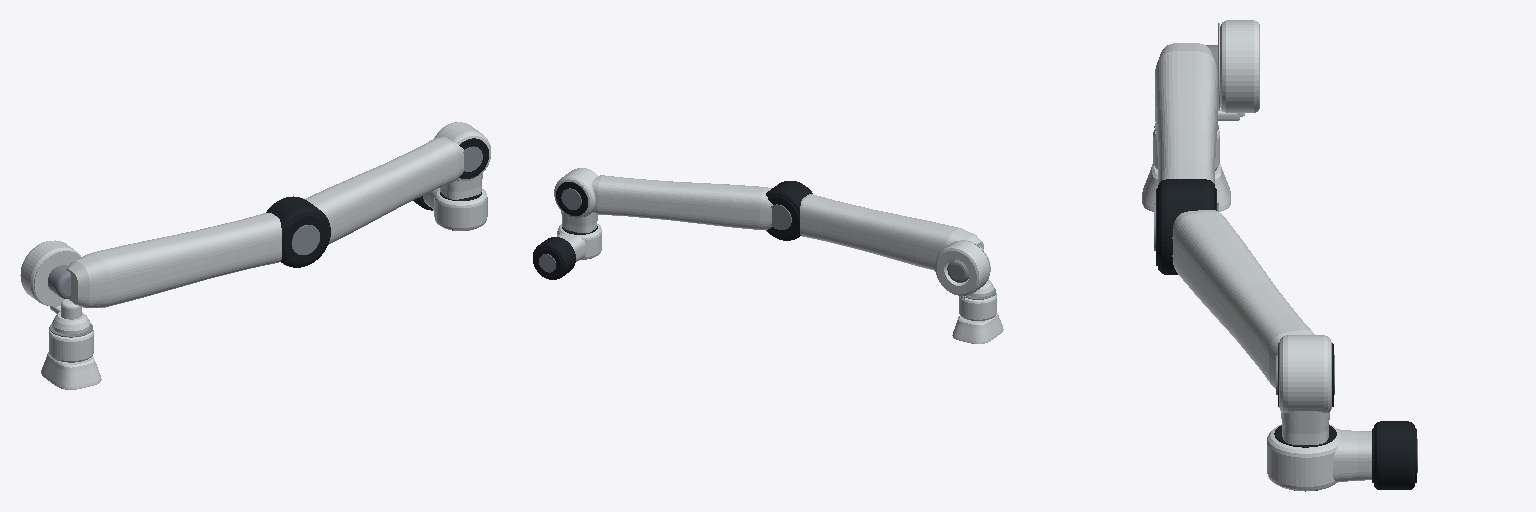
URDF robot description (ur5e_reference):
<?xml version='1.0' encoding='utf-8'?>
<robot name="ur5e_reference">
  <!-- Parameter-derived UR5e reference. Geometry and drive settings generated for this skill; see references/reference-arms.md and UPSTREAM-LICENSE.txt. -->
  <link name="world" />
  <link name="base_link_inertia">
    <inertial>
      <origin xyz="0 0 0" rpy="0 -0 0" />
      <mass value="4.0" />
      <inertia ixx="0.00443333156" iyy="0.00443333156" izz="0.0072" ixy="0.0" ixz="0.0" iyz="0.0" />
    </inertial>
    <visual name="base_link_inertia_base_visual">
      <geometry>
        <mesh filename="meshes/base_link_inertia_base_visual.stl" />
      </geometry>
      <material name="base_link_inertia_base">
        <color rgba="0.16 0.18 0.2 1" />
      </material>
    </visual>
    <collision name="base_link_inertia_base_collision">
      <origin xyz="0 0 -0.041" rpy="0 -0 0" />
      <geometry>
        <cylinder radius="0.09112500000000001" length="0.082" />
      </geometry>
    </collision>
    <visual name="base_link_inertia_mounting_rim_visual">
      <geometry>
        <mesh filename="meshes/base_link_inertia_mounting_rim_visual.stl" />
      </geometry>
      <material name="base_link_inertia_mounting_rim">
        <color rgba="0.55 0.58 0.61 1" />
      </material>
    </visual>
    <visual name="base_link_inertia_beam_visual">
      <geometry>
        <mesh filename="meshes/base_link_inertia_beam_visual.stl" />
      </geometry>
      <material name="base_link_inertia_beam">
        <color rgba="0.82 0.84 0.85 1" />
      </material>
    </visual>
    <collision name="base_link_inertia_beam_collision">
      <origin xyz="0 0 0.019" rpy="0 -0 -1.57079632679" />
      <geometry>
        <box size="0.1 0.082 0.0152" />
      </geometry>
    </collision>
    <visual name="base_link_inertia_shoulder_pan_joint_stator_visual">
      <geometry>
        <mesh filename="meshes/base_link_inertia_shoulder_pan_joint_stator_visual.stl" />
      </geometry>
      <material name="base_link_inertia_shoulder_pan_joint_stator">
        <color rgba="0.82 0.84 0.85 1" />
      </material>
    </visual>
    <collision name="base_link_inertia_shoulder_pan_joint_stator_collision">
      <origin xyz="0 0 0.0625" rpy="0 -0 -1.57079632679" />
      <geometry>
        <cylinder radius="0.0375" length="0.045" />
      </geometry>
    </collision>
  </link>
  <link name="shoulder_link">
    <inertial>
      <origin xyz="0 -0.00193 -0.02561" rpy="0 -0 0" />
      <mass value="3.761" />
      <inertia ixx="0.0070021" iyy="0.00657286" izz="0.00648091" ixy="1.053e-05" ixz="7.300000000000047e-07" iyz="-0.00049994" />
    </inertial>
    <visual name="shoulder_link_shoulder_lift_joint_stator_visual">
      <geometry>
        <mesh filename="meshes/shoulder_link_shoulder_lift_joint_stator_visual.stl" />
      </geometry>
      <material name="shoulder_link_shoulder_lift_joint_stator">
        <color rgba="0.82 0.84 0.85 1" />
      </material>
    </visual>
    <collision name="shoulder_link_shoulder_lift_joint_stator_collision">
      <origin xyz="0 -0.0602171470261 -1.23507469977e-11" rpy="0 1.57079632679 -1.57079632679" />
      <geometry>
        <cylinder radius="0.052" length="0.045" />
      </geometry>
    </collision>
    <visual name="shoulder_link_shoulder_pan_joint_output_shaft_visual">
      <geometry>
        <mesh filename="meshes/shoulder_link_shoulder_pan_joint_output_shaft_visual.stl" />
      </geometry>
      <material name="shoulder_link_shoulder_pan_joint_output_shaft">
        <color rgba="0.82 0.84 0.85 1" />
      </material>
    </visual>
    <collision name="shoulder_link_shoulder_pan_joint_output_shaft_collision">
      <origin xyz="-0 -0 -0.0744700000085" rpy="-0 -0 -1.57079632679" />
      <geometry>
        <cylinder radius="0.017625" length="0.09605999998303442" />
      </geometry>
    </collision>
    <visual name="shoulder_link_shoulder_pan_joint_output_fairing_visual">
      <geometry>
        <mesh filename="meshes/shoulder_link_shoulder_pan_joint_output_fairing_visual.stl" />
      </geometry>
      <material name="shoulder_link_shoulder_pan_joint_output_fairing">
        <color rgba="0.82 0.84 0.85 1" />
      </material>
    </visual>
    <collision name="shoulder_link_shoulder_pan_joint_output_fairing_collision">
      <origin xyz="-0 -0 -0.0624500000039" rpy="-0 -0 -1.57079632679" />
      <geometry>
        <cylinder radius="0.0315" length="0.0220999999922641" />
      </geometry>
    </collision>
    <visual name="shoulder_link_shoulder_pan_joint_rotor_ring_visual">
      <geometry>
        <mesh filename="meshes/shoulder_link_shoulder_pan_joint_rotor_ring_visual.stl" />
      </geometry>
      <material name="shoulder_link_shoulder_pan_joint_rotor_ring">
        <color rgba="0.55 0.58 0.61 1" />
      </material>
    </visual>
    <collision name="shoulder_link_shoulder_pan_joint_rotor_ring_collision">
      <origin xyz="0 0 -0.0745" rpy="-0 -0 -1.57079632679" />
      <geometry>
        <cylinder radius="0.036" length="0.002" />
      </geometry>
    </collision>
    <visual name="shoulder_link_shoulder_lift_joint_support_visual">
      <geometry>
        <mesh filename="meshes/shoulder_link_shoulder_lift_joint_support_visual.stl" />
      </geometry>
      <material name="shoulder_link_shoulder_lift_joint_support">
        <color rgba="0.82 0.84 0.85 1" />
      </material>
    </visual>
    <collision name="shoulder_link_shoulder_lift_joint_support_collision">
      <origin xyz="0 -0.0301085735008 -0.0594893015829" rpy="1.570796327 -0 0" />
      <geometry>
        <box size="0.01144 0.01144 0.0602171470261" />
      </geometry>
    </collision>
    <visual name="shoulder_link_shoulder_lift_joint_stator_lug_visual">
      <geometry>
        <mesh filename="meshes/shoulder_link_shoulder_lift_joint_stator_lug_visual.stl" />
      </geometry>
      <material name="shoulder_link_shoulder_lift_joint_stator_lug">
        <color rgba="0.82 0.84 0.85 1" />
      </material>
    </visual>
    <collision name="shoulder_link_shoulder_lift_joint_stator_lug_collision">
      <origin xyz="0 -0.060217147016 -0.0492446508007" rpy="-3.14159265338 -0 0" />
      <geometry>
        <box size="0.01144 0.01144 0.0204893015768" />
      </geometry>
    </collision>
  </link>
  <link name="upper_arm_link">
    <inertial>
      <origin xyz="-0.2125 0 0.11336" rpy="0 -0 0" />
      <mass value="8.058" />
      <inertia ixx="0.01505885" iyy="0.33388086" izz="0.33247207" ixy="-5.4e-05" ixz="5.63e-06" iyz="-1.81e-06" />
    </inertial>
    <visual name="upper_arm_link_beam_visual">
      <geometry>
        <mesh filename="meshes/upper_arm_link_beam_visual.stl" />
      </geometry>
      <material name="upper_arm_link_beam">
        <color rgba="0.82 0.84 0.85 1" />
      </material>
    </visual>
    <collision name="upper_arm_link_beam_collision">
      <origin xyz="-0.2125 0 0" rpy="1.57079632679 -0 -1.57079632679" />
      <geometry>
        <box size="0.0871149927466 0.0714342940522 0.3106" />
      </geometry>
    </collision>
    <visual name="upper_arm_link_shoulder_lift_joint_output_shaft_visual">
      <geometry>
        <mesh filename="meshes/upper_arm_link_shoulder_lift_joint_output_shaft_visual.stl" />
      </geometry>
      <material name="upper_arm_link_shoulder_lift_joint_output_shaft">
        <color rgba="0.55 0.58 0.61 1" />
      </material>
    </visual>
    <collision name="upper_arm_link_shoulder_lift_joint_output_shaft_collision">
      <origin xyz="0 0 0.0413585735131" rpy="-0 -0 -1.57079632679" />
      <geometry>
        <cylinder radius="0.024439999999999996" length="0.08271714702610156" />
      </geometry>
    </collision>
    <visual name="upper_arm_link_shoulder_lift_joint_output_plate_visual">
      <geometry>
        <mesh filename="meshes/upper_arm_link_shoulder_lift_joint_output_plate_visual.stl" />
      </geometry>
      <material name="upper_arm_link_shoulder_lift_joint_output_plate">
        <color rgba="0.82 0.84 0.85 1" />
      </material>
    </visual>
    <collision name="upper_arm_link_shoulder_lift_joint_output_plate_collision">
      <origin xyz="0 0 0.0367171470261" rpy="-0 -0 -1.57079632679" />
      <geometry>
        <cylinder radius="0.04939999999999999" length="0.002" />
      </geometry>
    </collision>
  </link>
  <link name="forearm_link">
    <inertial>
      <origin xyz="-0.2422 0 0.0265" rpy="0 -0 0" />
      <mass value="2.846" />
      <inertia ixx="0.00399632" iyy="0.07879254" izz="0.0784851" ixy="-1.365e-05" ixz="0.00137272" iyz="-6.6e-06" />
    </inertial>
    <visual name="forearm_link_housing_visual">
      <geometry>
        <mesh filename="meshes/forearm_link_housing_visual.stl" />
      </geometry>
      <material name="forearm_link_housing">
        <color rgba="0.16 0.18 0.2 1" />
      </material>
    </visual>
    <collision name="forearm_link_housing_collision">
      <origin xyz="0 0 0" rpy="-0 -0 -1.57079632679" />
      <geometry>
        <cylinder radius="0.0537492699387647" length="0.06529540940709193" />
      </geometry>
    </collision>
    <visual name="forearm_link_cap_visual">
      <geometry>
        <mesh filename="meshes/forearm_link_cap_visual.stl" />
      </geometry>
      <material name="forearm_link_cap">
        <color rgba="0.16 0.18 0.2 1" />
      </material>
    </visual>
    <visual name="forearm_link_cap_hub_visual">
      <geometry>
        <mesh filename="meshes/forearm_link_cap_hub_visual.stl" />
      </geometry>
      <material name="forearm_link_cap_hub">
        <color rgba="0.55 0.58 0.61 1" />
      </material>
    </visual>
    <visual name="forearm_link_rear_cap_visual">
      <geometry>
        <mesh filename="meshes/forearm_link_rear_cap_visual.stl" />
      </geometry>
      <material name="forearm_link_rear_cap">
        <color rgba="0.16 0.18 0.2 1" />
      </material>
    </visual>
    <visual name="forearm_link_rear_cap_hub_visual">
      <geometry>
        <mesh filename="meshes/forearm_link_rear_cap_hub_visual.stl" />
      </geometry>
      <material name="forearm_link_rear_cap_hub">
        <color rgba="0.55 0.58 0.61 1" />
      </material>
    </visual>
    <visual name="forearm_link_beam_visual">
      <geometry>
        <mesh filename="meshes/forearm_link_beam_visual.stl" />
      </geometry>
      <material name="forearm_link_beam">
        <color rgba="0.82 0.84 0.85 1" />
      </material>
    </visual>
    <collision name="forearm_link_beam_collision">
      <origin xyz="-0.1961 0 0.06665" rpy="1.24316752878 -0 -1.57079632679" />
      <geometry>
        <box size="0.0796285480574 0.0652954094071 0.295985513487" />
      </geometry>
    </collision>
  </link>
  <link name="wrist_1_link">
    <inertial>
      <origin xyz="0 -0.01634 -0.0018" rpy="0 -0 0" />
      <mass value="1.37" />
      <inertia ixx="0.00165491" iyy="0.00126279" izz="0.00135962" ixy="4.380000000000001e-06" ixz="-2.819999999999998e-06" iyz="-0.00010157000000000006" />
    </inertial>
    <visual name="wrist_1_link_housing_visual">
      <geometry>
        <mesh filename="meshes/wrist_1_link_housing_visual.stl" />
      </geometry>
      <material name="wrist_1_link_housing">
        <color rgba="0.82 0.84 0.85 1" />
      </material>
    </visual>
    <collision name="wrist_1_link_housing_collision">
      <origin xyz="0 0 0" rpy="-0 -0 -1.57079632679" />
      <geometry>
        <cylinder radius="0.044865" length="0.05915652476198071" />
      </geometry>
    </collision>
    <visual name="wrist_1_link_cap_visual">
      <geometry>
        <mesh filename="meshes/wrist_1_link_cap_visual.stl" />
      </geometry>
      <material name="wrist_1_link_cap">
        <color rgba="0.16 0.18 0.2 1" />
      </material>
    </visual>
    <visual name="wrist_1_link_cap_hub_visual">
      <geometry>
        <mesh filename="meshes/wrist_1_link_cap_hub_visual.stl" />
      </geometry>
      <material name="wrist_1_link_cap_hub">
        <color rgba="0.55 0.58 0.61 1" />
      </material>
    </visual>
    <visual name="wrist_1_link_rear_cap_visual">
      <geometry>
        <mesh filename="meshes/wrist_1_link_rear_cap_visual.stl" />
      </geometry>
      <material name="wrist_1_link_rear_cap">
        <color rgba="0.16 0.18 0.2 1" />
      </material>
    </visual>
    <visual name="wrist_1_link_rear_cap_hub_visual">
      <geometry>
        <mesh filename="meshes/wrist_1_link_rear_cap_hub_visual.stl" />
      </geometry>
      <material name="wrist_1_link_rear_cap_hub">
        <color rgba="0.55 0.58 0.61 1" />
      </material>
    </visual>
    <visual name="wrist_1_link_beam_visual">
      <geometry>
        <mesh filename="meshes/wrist_1_link_beam_visual.stl" />
      </geometry>
      <material name="wrist_1_link_beam">
        <color rgba="0.82 0.84 0.85 1" />
      </material>
    </visual>
    <collision name="wrist_1_link_beam_collision">
      <origin xyz="0 -0.04985 -1.02244059115e-11" rpy="1.570796327 -0 0" />
      <geometry>
        <box size="0.0721421033683 0.059156524762 0.03988" />
      </geometry>
    </collision>
  </link>
  <link name="wrist_2_link">
    <inertial>
      <origin xyz="0 0.01634 -0.0018" rpy="0 -0 0" />
      <mass value="1.3" />
      <inertia ixx="0.00135617" iyy="0.00096614" izz="0.00127827" ixy="4.440000000000001e-06" ixz="2.739999999999998e-06" iyz="5.048000000000014e-05" />
    </inertial>
    <visual name="wrist_2_link_housing_visual">
      <geometry>
        <mesh filename="meshes/wrist_2_link_housing_visual.stl" />
      </geometry>
      <material name="wrist_2_link_housing">
        <color rgba="0.82 0.84 0.85 1" />
      </material>
    </visual>
    <collision name="wrist_2_link_housing_collision">
      <origin xyz="0 0 0" rpy="-0 -0 -1.57079632679" />
      <geometry>
        <cylinder radius="0.043642569608398685" length="0.05301764011686951" />
      </geometry>
    </collision>
    <visual name="wrist_2_link_cap_visual">
      <geometry>
        <mesh filename="meshes/wrist_2_link_cap_visual.stl" />
      </geometry>
      <material name="wrist_2_link_cap">
        <color rgba="0.16 0.18 0.2 1" />
      </material>
    </visual>
    <visual name="wrist_2_link_cap_hub_visual">
      <geometry>
        <mesh filename="meshes/wrist_2_link_cap_hub_visual.stl" />
      </geometry>
      <material name="wrist_2_link_cap_hub">
        <color rgba="0.55 0.58 0.61 1" />
      </material>
    </visual>
    <visual name="wrist_2_link_rear_cap_visual">
      <geometry>
        <mesh filename="meshes/wrist_2_link_rear_cap_visual.stl" />
      </geometry>
      <material name="wrist_2_link_rear_cap">
        <color rgba="0.16 0.18 0.2 1" />
      </material>
    </visual>
    <visual name="wrist_2_link_rear_cap_hub_visual">
      <geometry>
        <mesh filename="meshes/wrist_2_link_rear_cap_hub_visual.stl" />
      </geometry>
      <material name="wrist_2_link_rear_cap_hub">
        <color rgba="0.55 0.58 0.61 1" />
      </material>
    </visual>
    <visual name="wrist_2_link_beam_visual">
      <geometry>
        <mesh filename="meshes/wrist_2_link_beam_visual.stl" />
      </geometry>
      <material name="wrist_2_link_beam">
        <color rgba="0.82 0.84 0.85 1" />
      </material>
    </visual>
    <collision name="wrist_2_link_beam_collision">
      <origin xyz="0 0.0498 -1.02141507401e-11" rpy="1.570796327 -0 3.14159265359" />
      <geometry>
        <box size="0.0646556586791 0.0530176401169 0.03984" />
      </geometry>
    </collision>
  </link>
  <link name="wrist_3_link">
    <inertial>
      <origin xyz="0 0 -0.001159" rpy="0 -0 0" />
      <mass value="0.365" />
      <inertia ixx="0.00018694" iyy="0.00018908" izz="0.00025756" ixy="6e-08" ixz="-1.7e-07" iyz="-9.2e-07" />
    </inertial>
    <visual name="wrist_3_link_housing_visual">
      <geometry>
        <mesh filename="meshes/wrist_3_link_housing_visual.stl" />
      </geometry>
      <material name="wrist_3_link_housing">
        <color rgba="0.16 0.18 0.2 1" />
      </material>
    </visual>
    <collision name="wrist_3_link_housing_collision">
      <origin xyz="0 0 0" rpy="-0 -0 -1.57079632679" />
      <geometry>
        <cylinder radius="0.03858921944321568" length="0.0468787554717583" />
      </geometry>
    </collision>
    <visual name="wrist_3_link_cap_visual">
      <geometry>
        <mesh filename="meshes/wrist_3_link_cap_visual.stl" />
      </geometry>
      <material name="wrist_3_link_cap">
        <color rgba="0.16 0.18 0.2 1" />
      </material>
    </visual>
    <visual name="wrist_3_link_cap_hub_visual">
      <geometry>
        <mesh filename="meshes/wrist_3_link_cap_hub_visual.stl" />
      </geometry>
      <material name="wrist_3_link_cap_hub">
        <color rgba="0.55 0.58 0.61 1" />
      </material>
    </visual>
    <visual name="wrist_3_link_rear_cap_visual">
      <geometry>
        <mesh filename="meshes/wrist_3_link_rear_cap_visual.stl" />
      </geometry>
      <material name="wrist_3_link_rear_cap">
        <color rgba="0.16 0.18 0.2 1" />
      </material>
    </visual>
    <visual name="wrist_3_link_rear_cap_hub_visual">
      <geometry>
        <mesh filename="meshes/wrist_3_link_rear_cap_hub_visual.stl" />
      </geometry>
      <material name="wrist_3_link_rear_cap_hub">
        <color rgba="0.55 0.58 0.61 1" />
      </material>
    </visual>
    <visual name="wrist_3_link_flange_visual">
      <geometry>
        <mesh filename="meshes/wrist_3_link_flange_visual.stl" />
      </geometry>
      <material name="wrist_3_link_flange">
        <color rgba="0.55 0.58 0.61 1" />
      </material>
    </visual>
    <collision name="wrist_3_link_flange_collision">
      <origin xyz="0 0 0" rpy="0 -1.11022302463e-16 1.11022302463e-16" />
      <geometry>
        <cylinder radius="0.030013837344723307" length="0.010290458518190847" />
      </geometry>
    </collision>
    <visual name="wrist_3_link_flange_fastener_0_visual">
      <geometry>
        <mesh filename="meshes/wrist_3_link_flange_fastener_0_visual.stl" />
      </geometry>
      <material name="wrist_3_link_flange_fastener_0">
        <color rgba="0.16 0.18 0.2 1" />
      </material>
    </visual>
    <visual name="wrist_3_link_flange_fastener_1_visual">
      <geometry>
        <mesh filename="meshes/wrist_3_link_flange_fastener_1_visual.stl" />
      </geometry>
      <material name="wrist_3_link_flange_fastener_1">
        <color rgba="0.16 0.18 0.2 1" />
      </material>
    </visual>
    <visual name="wrist_3_link_flange_fastener_2_visual">
      <geometry>
        <mesh filename="meshes/wrist_3_link_flange_fastener_2_visual.stl" />
      </geometry>
      <material name="wrist_3_link_flange_fastener_2">
        <color rgba="0.16 0.18 0.2 1" />
      </material>
    </visual>
    <visual name="wrist_3_link_flange_fastener_3_visual">
      <geometry>
        <mesh filename="meshes/wrist_3_link_flange_fastener_3_visual.stl" />
      </geometry>
      <material name="wrist_3_link_flange_fastener_3">
        <color rgba="0.16 0.18 0.2 1" />
      </material>
    </visual>
  </link>
  <link name="tool_frame" />
  <joint name="world_fixed" type="fixed">
    <parent link="world" />
    <child link="base_link_inertia" />
    <origin xyz="0 0 0" rpy="0 -0 3.14159265359" />
  </joint>
  <joint name="shoulder_pan_joint" type="revolute">
    <parent link="base_link_inertia" />
    <child link="shoulder_link" />
    <origin xyz="0 0 0.1625" rpy="0 -0 0" />
    <axis xyz="0 0 1" />
    <limit lower="-6.283185307179586" upper="6.283185307179586" effort="150.0" velocity="3.141592653589793" />
    <dynamics damping="0" friction="0" />
  </joint>
  <joint name="shoulder_lift_joint" type="revolute">
    <parent link="shoulder_link" />
    <child link="upper_arm_link" />
    <origin xyz="0 0 0" rpy="1.570796327 -0 0" />
    <axis xyz="0 0 1" />
    <limit lower="-6.283185307179586" upper="6.283185307179586" effort="150.0" velocity="3.141592653589793" />
    <dynamics damping="0" friction="0" />
  </joint>
  <joint name="elbow_joint" type="revolute">
    <parent link="upper_arm_link" />
    <child link="forearm_link" />
    <origin xyz="-0.425 0 0" rpy="0 -0 0" />
    <axis xyz="0 0 1" />
    <limit lower="-3.141592653589793" upper="3.141592653589793" effort="150.0" velocity="3.141592653589793" />
    <dynamics damping="0" friction="0" />
  </joint>
  <joint name="wrist_1_joint" type="revolute">
    <parent link="forearm_link" />
    <child link="wrist_1_link" />
    <origin xyz="-0.3922 0 0.1333" rpy="0 -0 0" />
    <axis xyz="0 0 1" />
    <limit lower="-6.283185307179586" upper="6.283185307179586" effort="28.0" velocity="3.141592653589793" />
    <dynamics damping="0" friction="0" />
  </joint>
  <joint name="wrist_2_joint" type="revolute">
    <parent link="wrist_1_link" />
    <child link="wrist_2_link" />
    <origin xyz="0 -0.0997 -2.0448811823e-11" rpy="1.570796327 -0 0" />
    <axis xyz="0 0 1" />
    <limit lower="-6.283185307179586" upper="6.283185307179586" effort="28.0" velocity="3.141592653589793" />
    <dynamics damping="0" friction="0" />
  </joint>
  <joint name="wrist_3_joint" type="revolute">
    <parent link="wrist_2_link" />
    <child link="wrist_3_link" />
    <origin xyz="0 0.0996 -2.04283014801e-11" rpy="-1.570796327 1.22464679915e-16 -1.22464679915e-16" />
    <axis xyz="0 0 1" />
    <limit lower="-6.283185307179586" upper="6.283185307179586" effort="28.0" velocity="3.141592653589793" />
    <dynamics damping="0" friction="0" />
  </joint>
  <joint name="tool_fixed" type="fixed">
    <parent link="wrist_3_link" />
    <child link="tool_frame" />
    <origin xyz="0 0 0" rpy="0 -1.11022302463e-16 1.11022302463e-16" />
  </joint>
  <mujoco>
    <compiler strippath="false" discardvisual="false" fusestatic="false" />
  </mujoco>
</robot>

--- Facts derived from the render (not from the file) ---
The picture shows the robot from 3 angles, left to right: view 1: azimuth 30°, elevation 25°; view 2: azimuth 150°, elevation 25°; view 3: azimuth 270°, elevation 25°; orthographic projection.
Model ur5e_reference with 9 links and 8 joints (6 revolute, 2 fixed), rooted at world, posed every joint at zero.
Visible links, largest first — view 1: upper_arm_link, forearm_link, base_link_inertia, wrist_1_link, shoulder_link, wrist_2_link; view 2: forearm_link, upper_arm_link, shoulder_link, wrist_1_link, base_link_inertia, wrist_3_link, wrist_2_link; view 3: forearm_link, upper_arm_link, wrist_1_link, wrist_2_link, shoulder_link, wrist_3_link, base_link_inertia.
Link boxes in pixels (x1=…): upper_arm_link: x1=34, y1=213, x2=281, y2=307; forearm_link: x1=266, y1=137, x2=463, y2=267; base_link_inertia: x1=41, y1=329, x2=101, y2=389; wrist_1_link: x1=434, y1=122, x2=490, y2=199; shoulder_link: x1=20, y1=240, x2=92, y2=337; wrist_2_link: x1=423, y1=188, x2=487, y2=230; forearm_link: x1=592, y1=175, x2=812, y2=240; upper_arm_link: x1=800, y1=194, x2=990, y2=282; shoulder_link: x1=935, y1=240, x2=995, y2=299; wrist_1_link: x1=554, y1=168, x2=597, y2=232; base_link_inertia: x1=952, y1=293, x2=1003, y2=343; wrist_3_link: x1=533, y1=237, x2=575, y2=279; wrist_2_link: x1=557, y1=224, x2=601, y2=261; forearm_link: x1=1154, y1=179, x2=1314, y2=388; upper_arm_link: x1=1155, y1=23, x2=1219, y2=184; wrist_1_link: x1=1276, y1=335, x2=1334, y2=444; wrist_2_link: x1=1267, y1=424, x2=1371, y2=491; shoulder_link: x1=1154, y1=20, x2=1259, y2=130; wrist_3_link: x1=1372, y1=421, x2=1417, y2=489; base_link_inertia: x1=1142, y1=129, x2=1230, y2=211.
Bounding box of the posed robot: 0.9141 × 0.3093 × 0.2162 m (x, y, z).
39 mesh visuals loaded from 41 distinct referenced files (39 binary STL); not drawn: 2 (reference not matched to a file when rendering).
